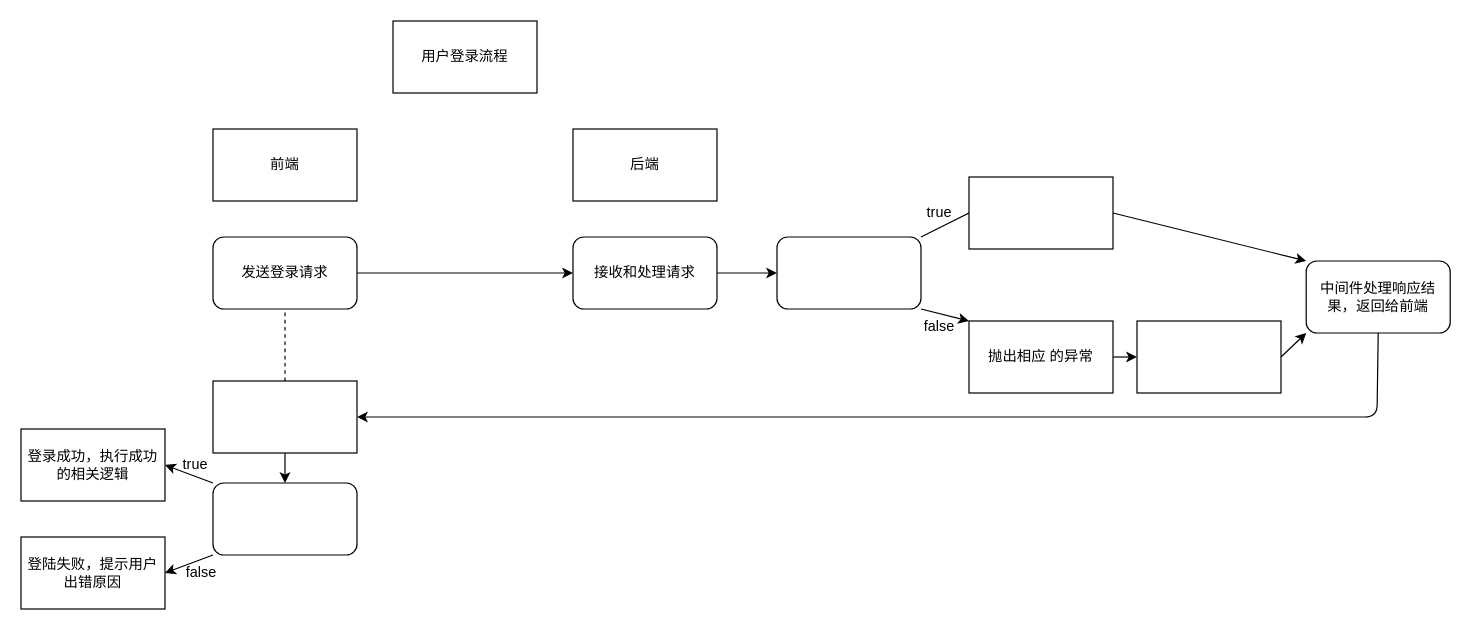
Image size: 1471x630. Some labels were removed from this diagram. Each missing label, with the centre of its shape:
响应结果是否正常: the point at 284,518
将查询结果交由中间件处理: the point at 1040,212
查询用户是否存在: the point at 848,272
获取响应结果: the point at 284,416
错误捕获机制捕获到异常，并将对应的异常返回值交由中间件处理: the point at 1208,356
